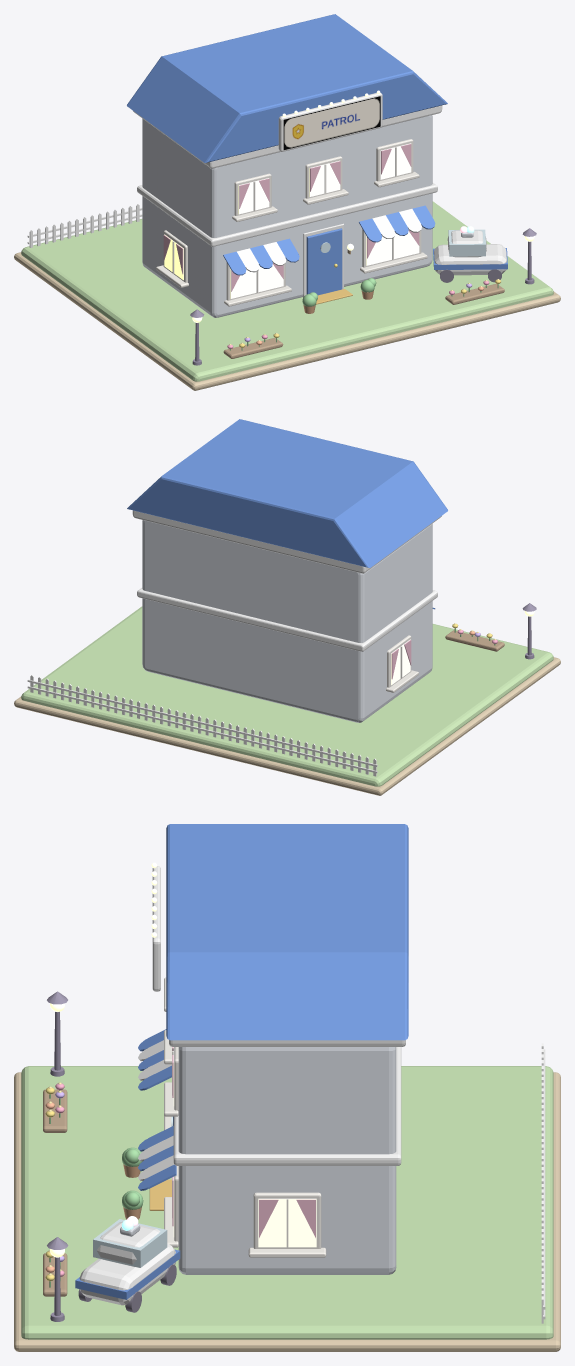
Rendered from building_police_L08.glb.
3 renders of one model, top to bottom at view 1: azimuth 30°, elevation 25°; view 2: azimuth 150°, elevation 25°; view 3: azimuth 270°, elevation 25°, orthographic. The views are drawn at different scales.
Parts seen in each view (by area): view 1: police_L8, object 9, object 2, object 3, object 6, object 8, object 7; view 2: police_L8; view 3: police_L8, object 5.
Part boxes in pixels (left/top/right/bottom): police_L8: left=14, top=14, right=560, bottom=390; object 9: left=283, top=96, right=380, bottom=149; object 2: left=230, top=264, right=283, bottom=298; object 3: left=366, top=231, right=419, bottom=265; object 6: left=238, top=178, right=269, bottom=214; object 8: left=380, top=143, right=411, bottom=179; object 7: left=309, top=160, right=340, bottom=196; police_L8: left=14, top=419, right=560, bottom=795; police_L8: left=14, top=824, right=560, bottom=1351; object 5: left=258, top=1198, right=316, bottom=1247.
Bounding box in the file's own units: 26.61 × 15.02 × 22.6.
29 materials, 1 textured.
